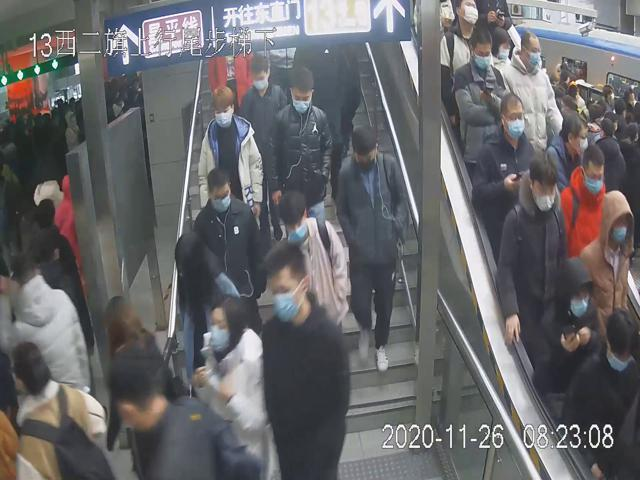person: (262, 239, 352, 480), (333, 127, 408, 372), (494, 156, 570, 368), (471, 88, 541, 250), (189, 168, 262, 318), (265, 63, 332, 226), (195, 81, 261, 235), (278, 189, 348, 332), (500, 28, 561, 158), (453, 27, 507, 170), (237, 52, 289, 160)
